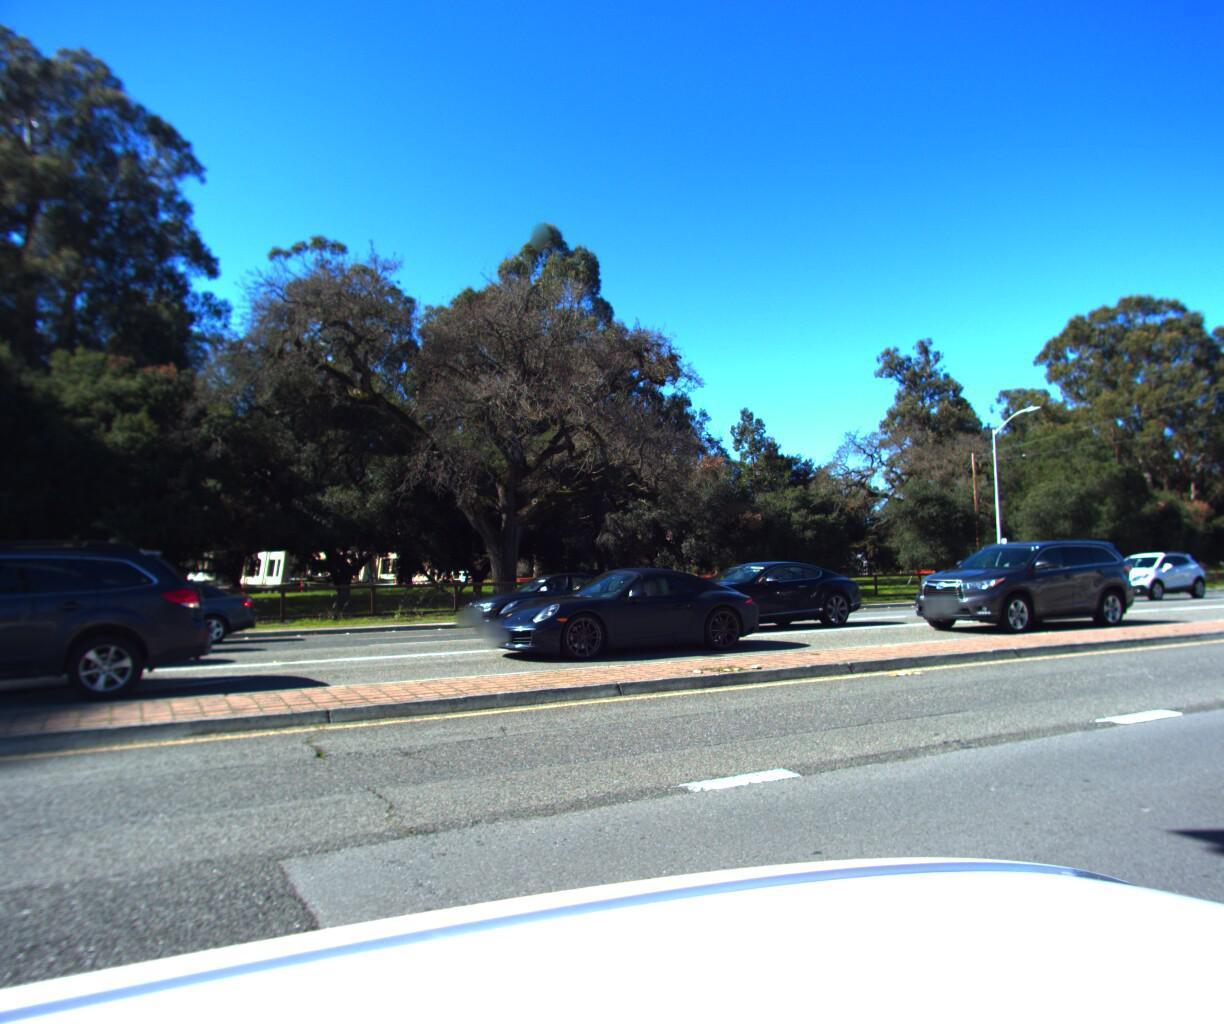car: (0, 524, 232, 750), (465, 561, 782, 663), (888, 531, 1155, 633), (3, 573, 255, 658), (648, 549, 875, 629), (450, 569, 640, 635), (1081, 541, 1212, 596)
